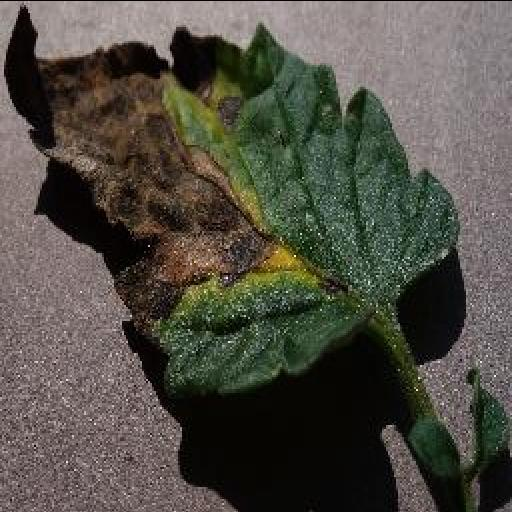disease_tomato: (23, 26, 457, 388)
